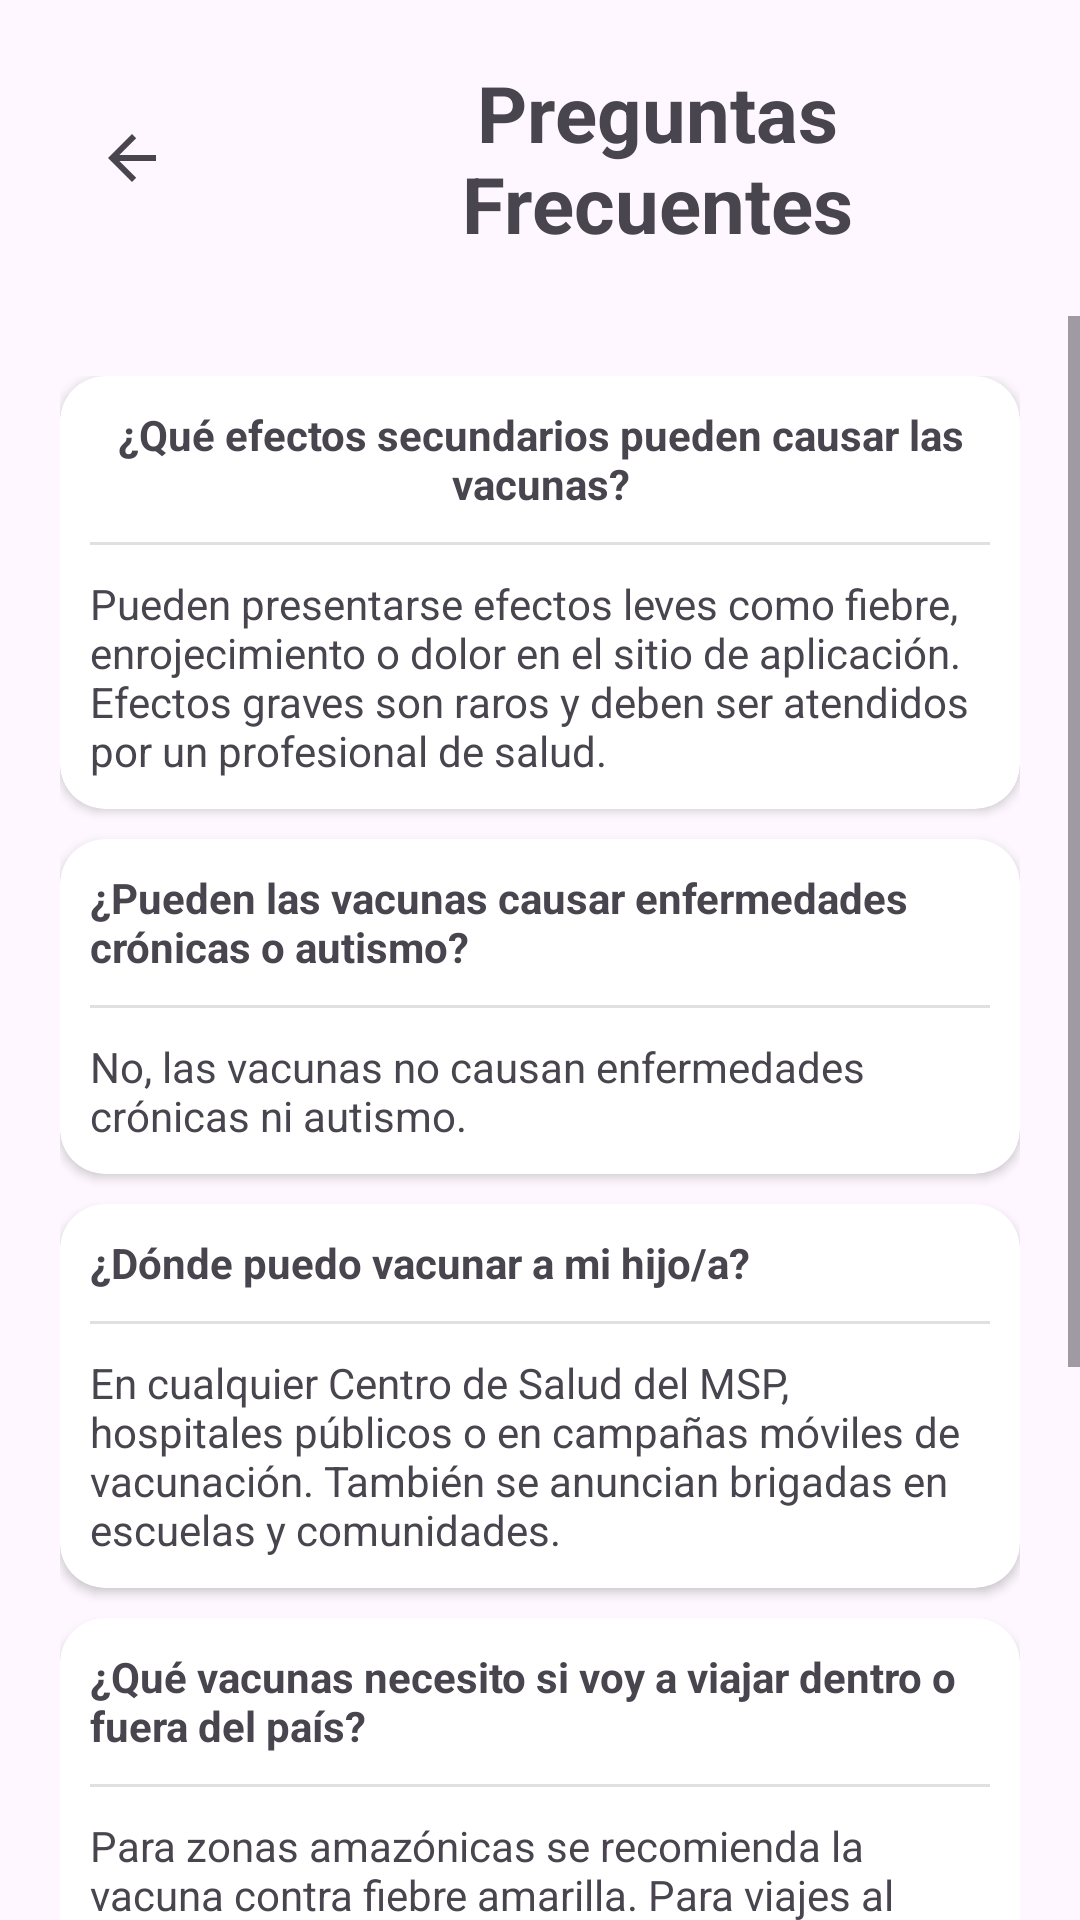

Icons on this 1080*1920 Android screen, each with its box as (x1, y1, x2, y2):
Regresar: (108, 134, 156, 182)
